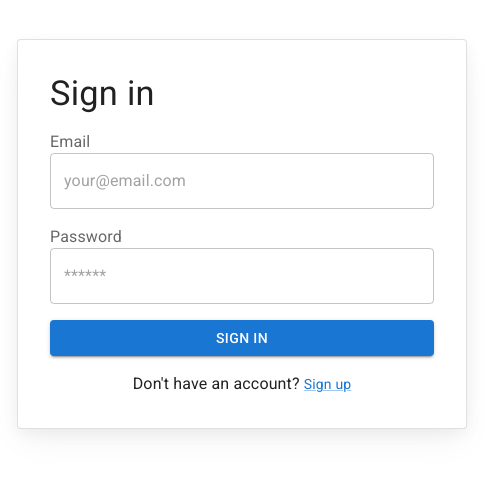
Scenario: AuthPage › shows validation errors when submitting empty form
The width and height of the screenshot is (485, 477).
Step 1. Click the button "Sign in" → {"x": 242, "y": 338}, box [50,320,434,356]
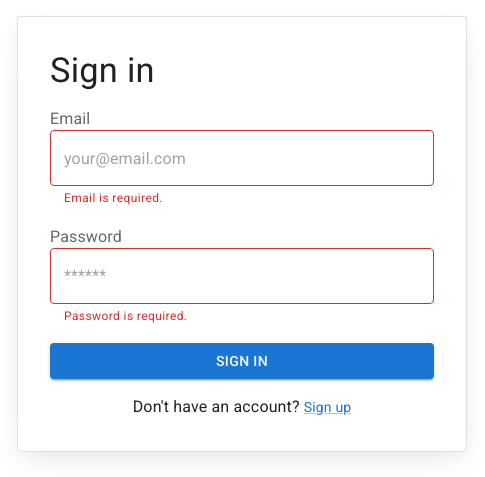
Now the text "Email is required." is shown, box [64,191,163,205]
Now the text "Password is required." is shown, box [64,309,187,323]
